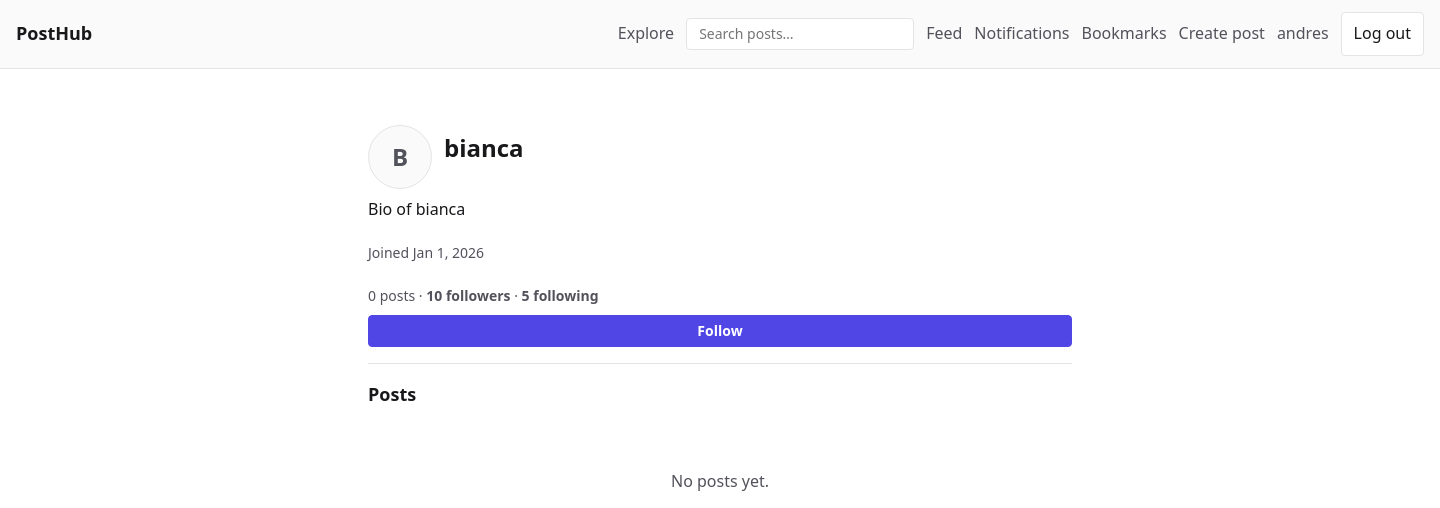
Test case: Profile & follows › follows optimistically and bumps the follower count
Expected: the heading "bianca" is shown, [444,129,524,168]
Expected: the link "10 followers" is shown, [426,286,511,305]
Click the button "Follow" at (720, 331), box [368,315,1072,347]
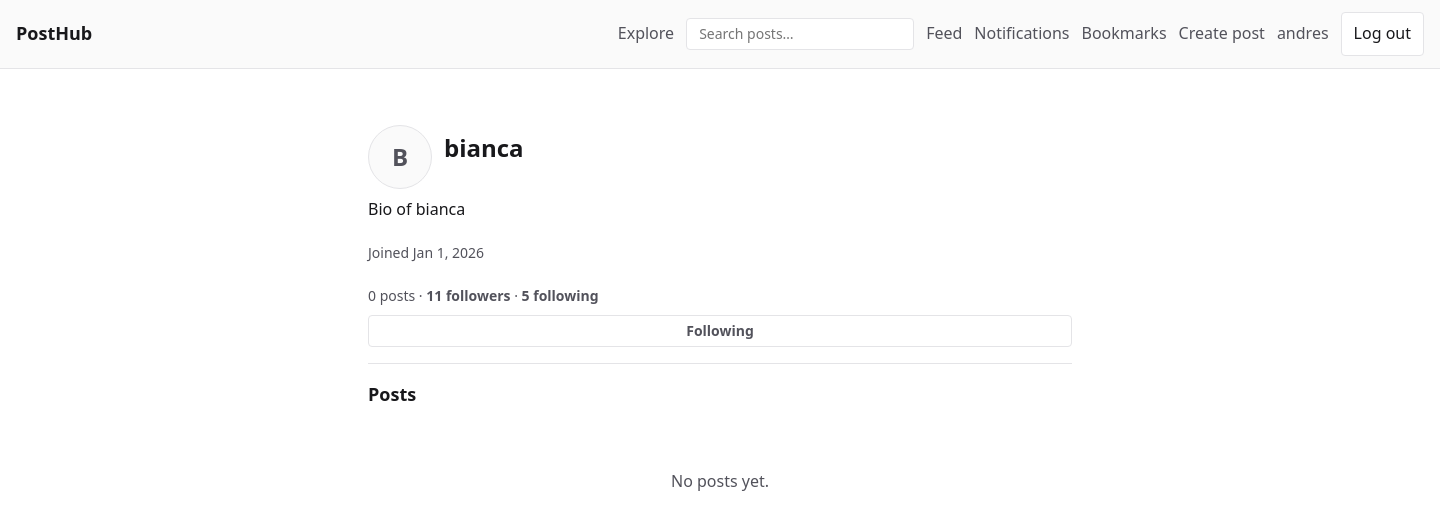
Now the link "11 followers" is shown, box [426,286,511,305]
